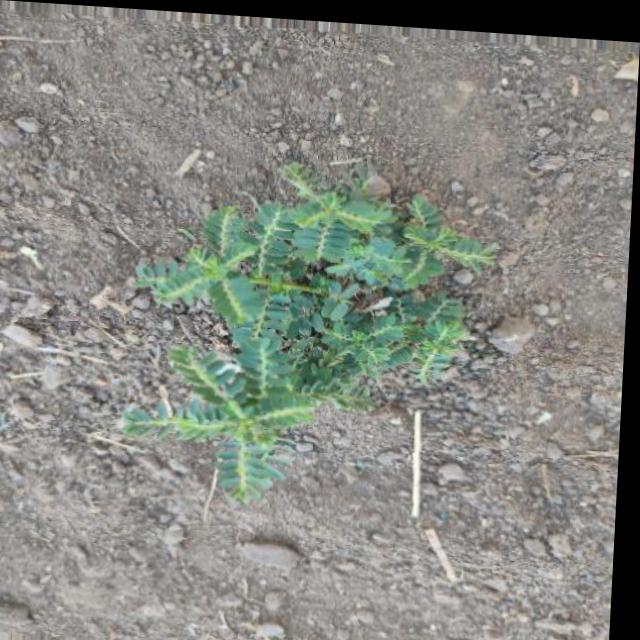weed: (117, 163, 501, 502)
